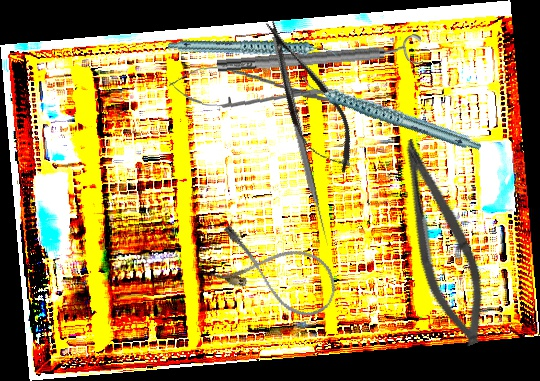Cannula: (205, 220, 346, 325)
Fixation Ring: (216, 32, 423, 82)
Handpiece: (297, 41, 484, 186), (167, 6, 339, 93)
Micro Scissor: (375, 132, 505, 353), (245, 9, 369, 184), (167, 63, 339, 117)
Pusher: (270, 35, 332, 247)
